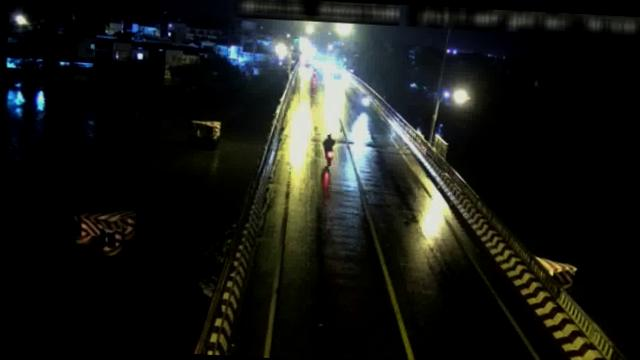Bike: (318, 134, 338, 167)
